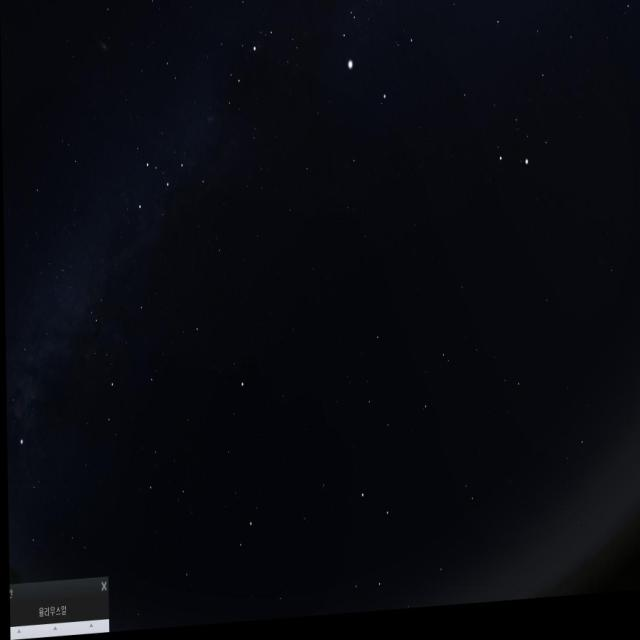cassiopeia: (130, 143, 211, 238)
